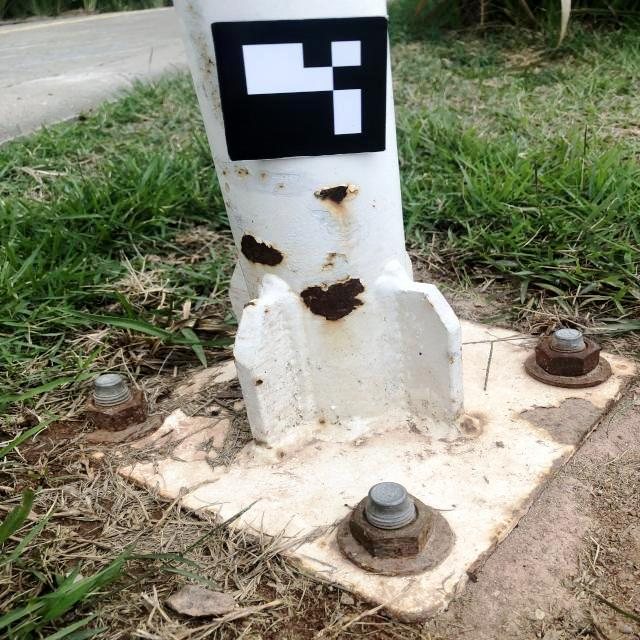Corrosion: (464, 448, 573, 579), (514, 350, 640, 451), (330, 493, 455, 576), (522, 336, 612, 388), (85, 387, 163, 447), (352, 580, 459, 623), (298, 274, 366, 322), (283, 550, 344, 585), (240, 232, 286, 268), (313, 184, 360, 209), (117, 468, 152, 489), (458, 411, 485, 437), (198, 36, 215, 76), (322, 250, 348, 271), (182, 504, 205, 520), (253, 437, 274, 450), (156, 491, 174, 499), (235, 166, 249, 176), (243, 302, 258, 310), (203, 508, 215, 518), (252, 379, 264, 387), (279, 452, 286, 458), (319, 420, 327, 425), (449, 356, 454, 364), (222, 170, 228, 175), (261, 172, 267, 177), (279, 184, 285, 188), (226, 202, 230, 207), (264, 310, 269, 313)
